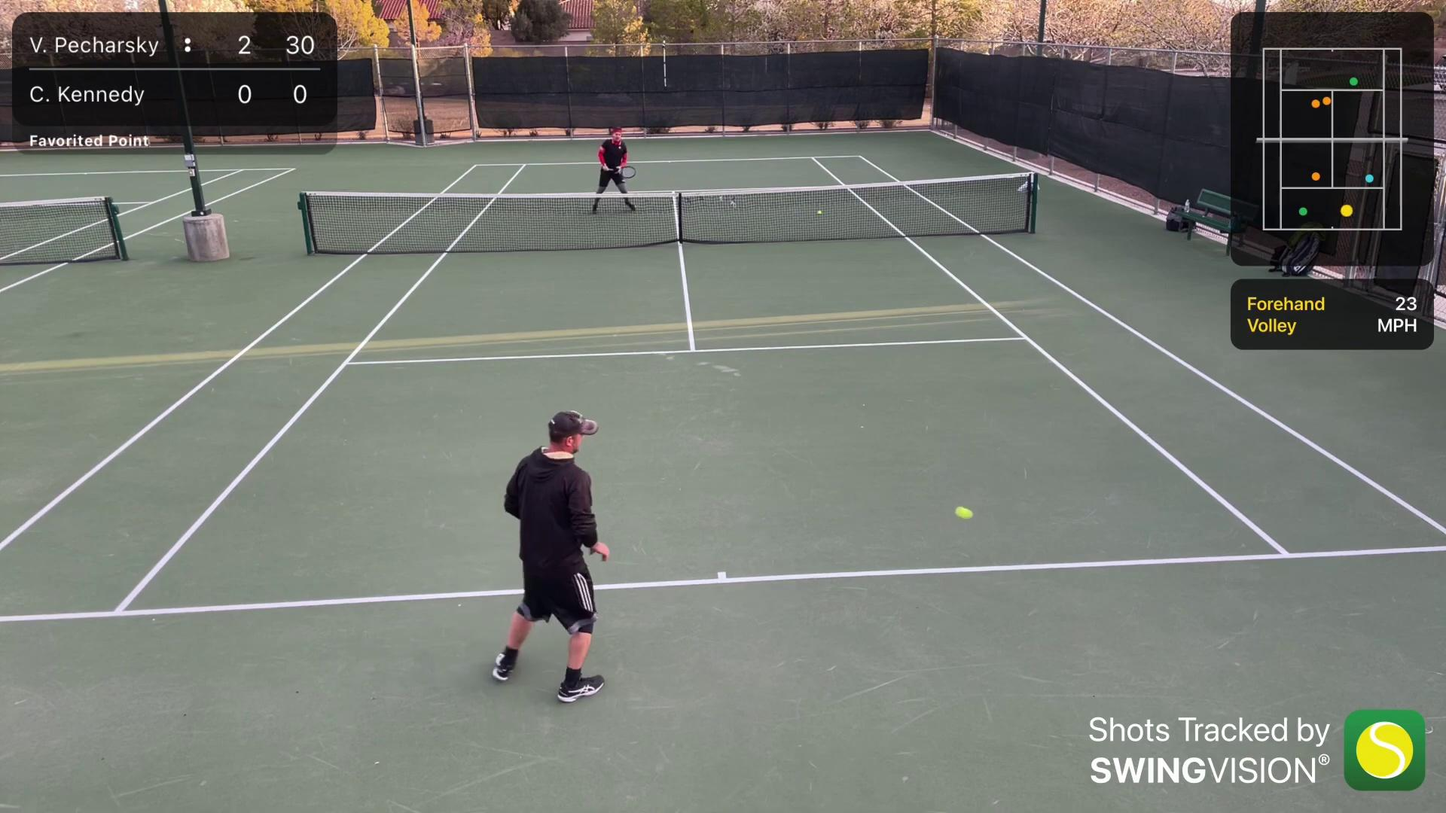ball: (955, 505, 974, 521), (816, 210, 822, 215)
